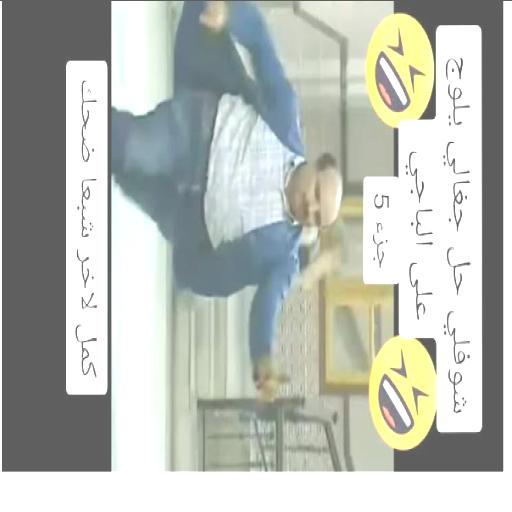beji_matrix: (287, 152, 342, 228)
